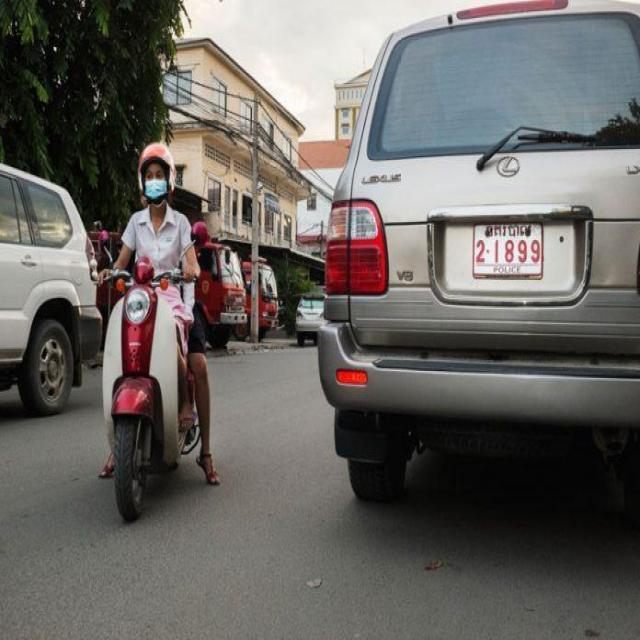Police: (486, 223, 532, 237)
